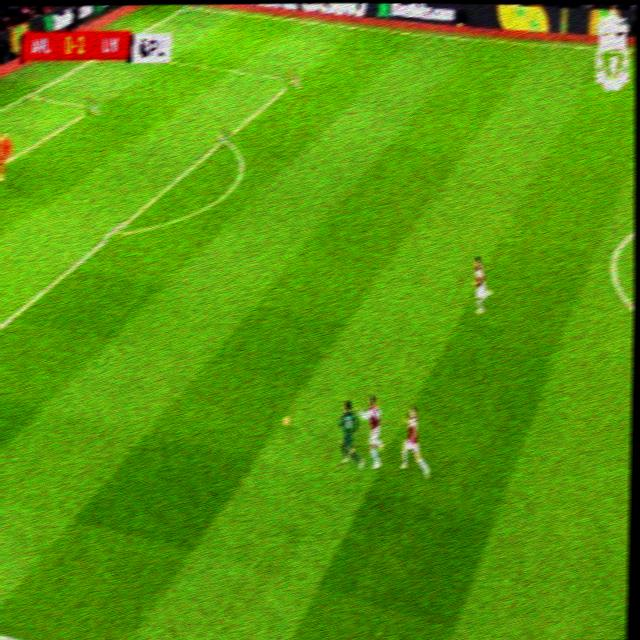bigarea_top_inner: (284, 68, 301, 89)
bigarea_top_outter: (18, 85, 36, 104)
bottom_arc_area_intersection: (103, 220, 122, 242)
corner: (176, 4, 197, 14)
smallarea_top_inner: (83, 97, 100, 116)
smallarea_top_outter: (18, 85, 36, 104)
top_arc_area_intersection: (215, 127, 233, 147)
